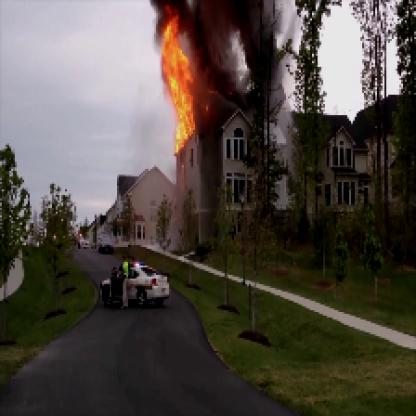Fire: (150, 2, 218, 160)
Smoke: (184, 2, 284, 111)
